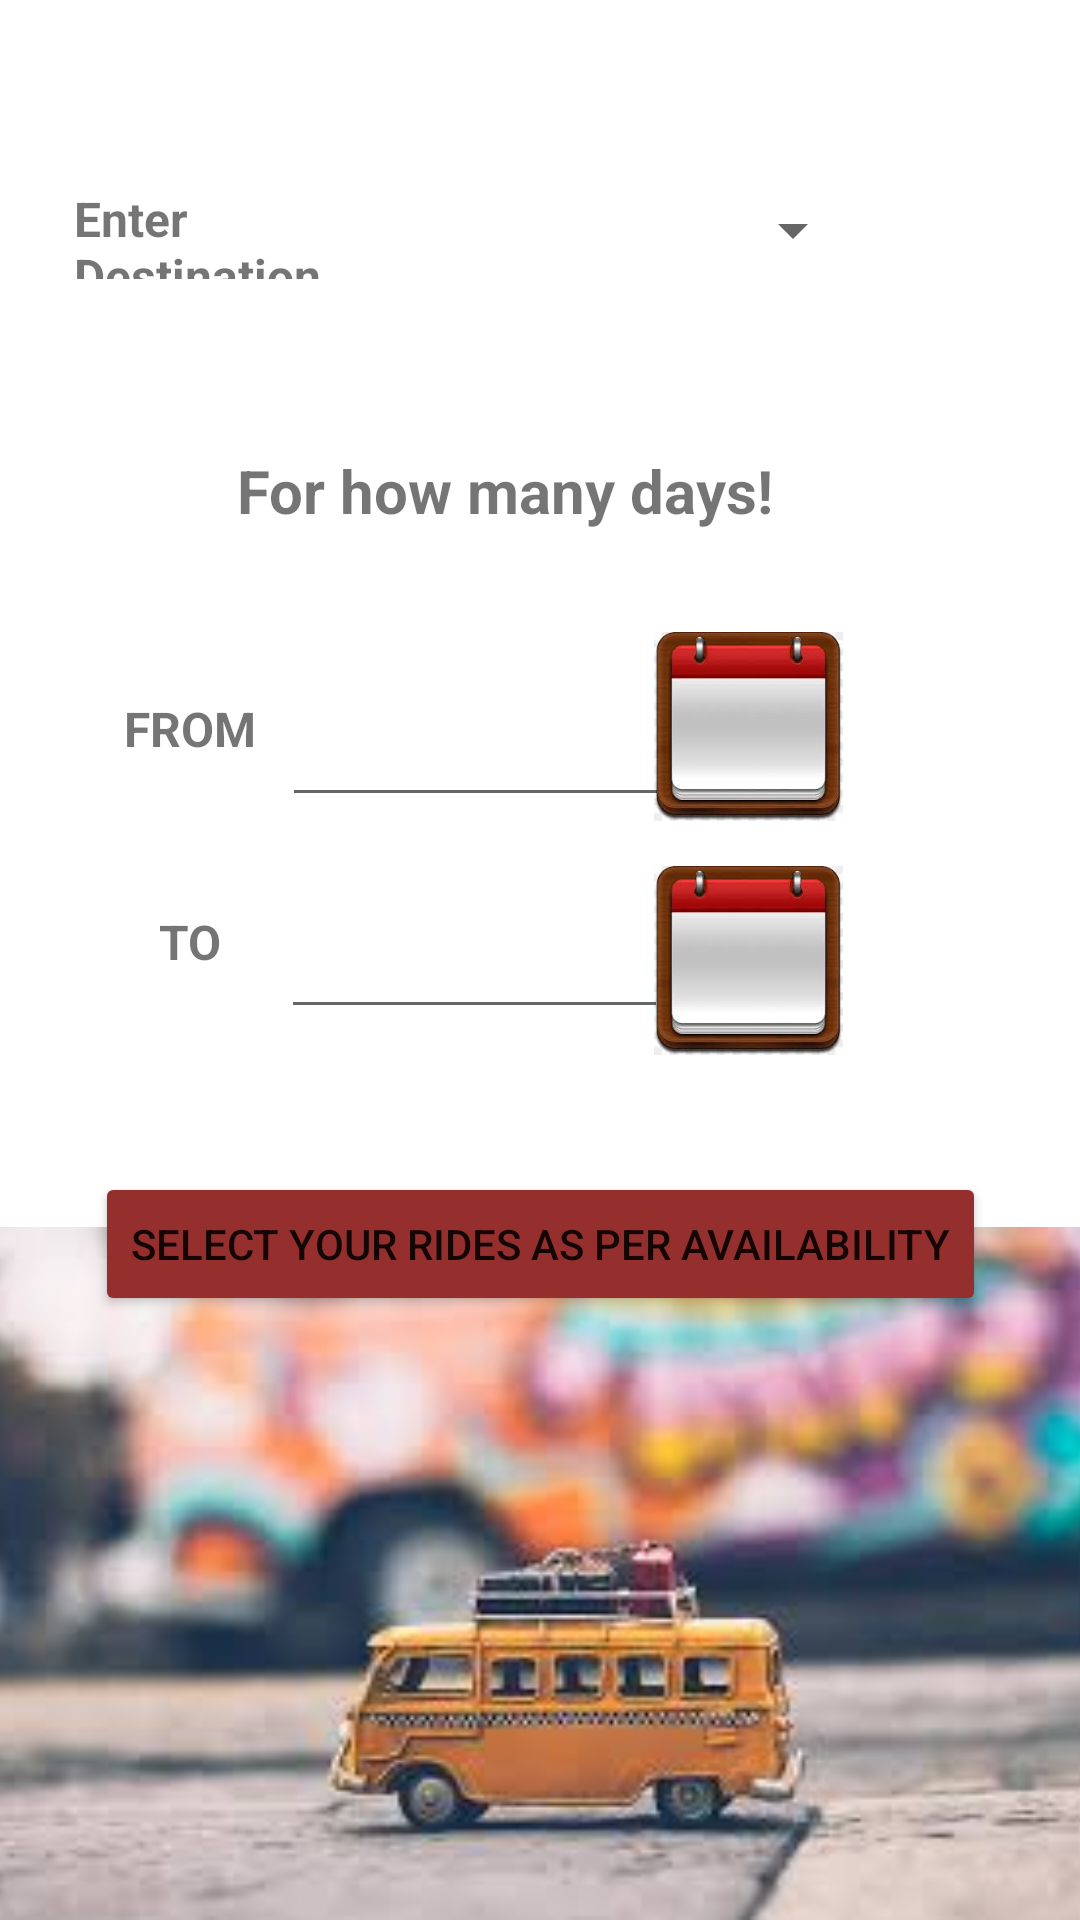

Icons on this 1080 x 1920 Android screen, each with the point to tap as [x,y]:
cald: [743,726], [743,960]
